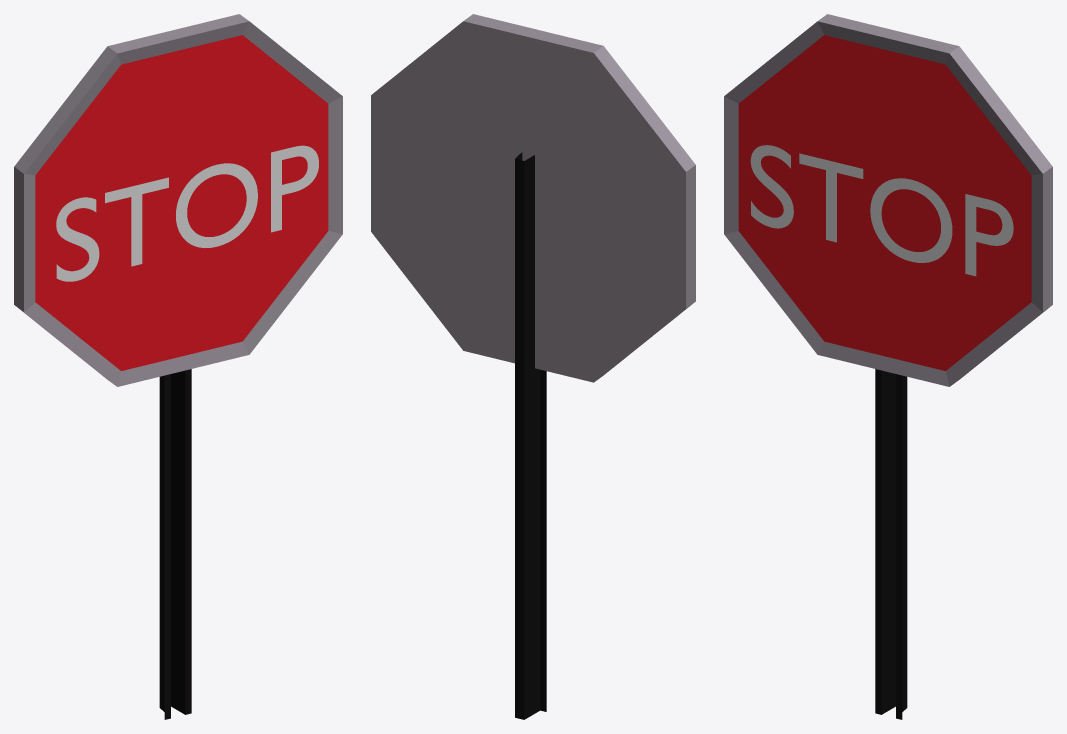
The model's file is stop_sign.dae.
3 views of the same model, side by side, from view 1: azimuth 30°, elevation 25°; view 2: azimuth 150°, elevation 25°; view 3: azimuth 330°, elevation 25° (orthographic).
Parts seen in each view (by area): view 1: Cylinder, Box001.002, Text; view 2: Cylinder, Box001.002; view 3: Cylinder, Box001.002, Text.
Boxes of the visible parts, <box> form: Cylinder: <box>14,14,342,386</box>; Box001.002: <box>159,369,191,719</box>; Text: <box>56,145,318,281</box>; Cylinder: <box>371,14,695,382</box>; Box001.002: <box>515,152,546,719</box>; Cylinder: <box>724,14,1052,386</box>; Box001.002: <box>875,369,907,719</box>; Text: <box>750,145,1013,276</box>.
Size of the model in its own units: 1.85 by 0.2192 by 3.78.
